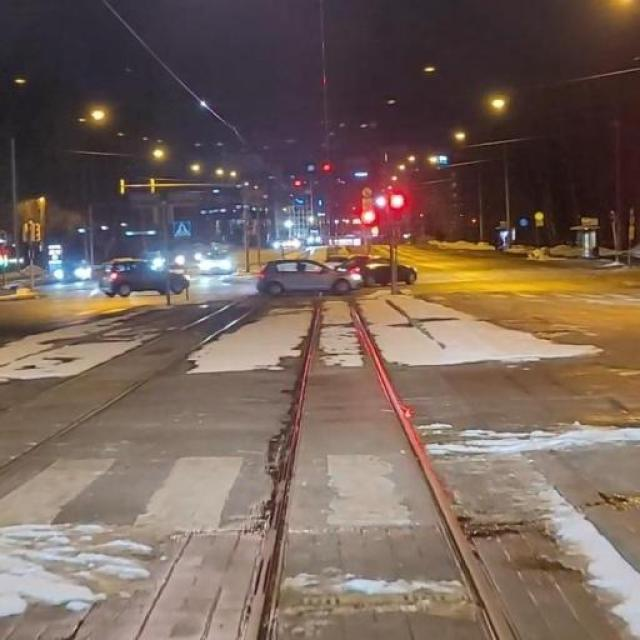vehicle: (254, 254, 360, 302), (99, 252, 198, 297), (342, 249, 434, 290), (196, 245, 242, 275)
